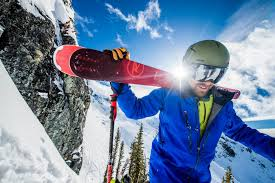skis: (53, 44, 242, 100)
